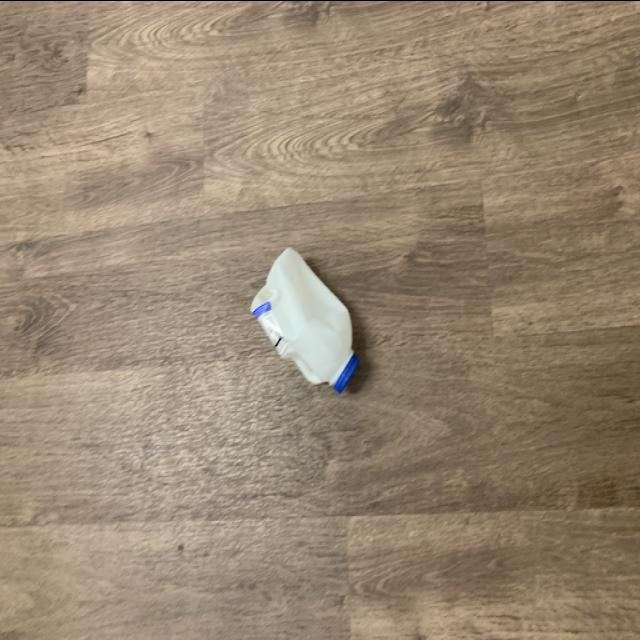HDPEM: (246, 244, 364, 392)
